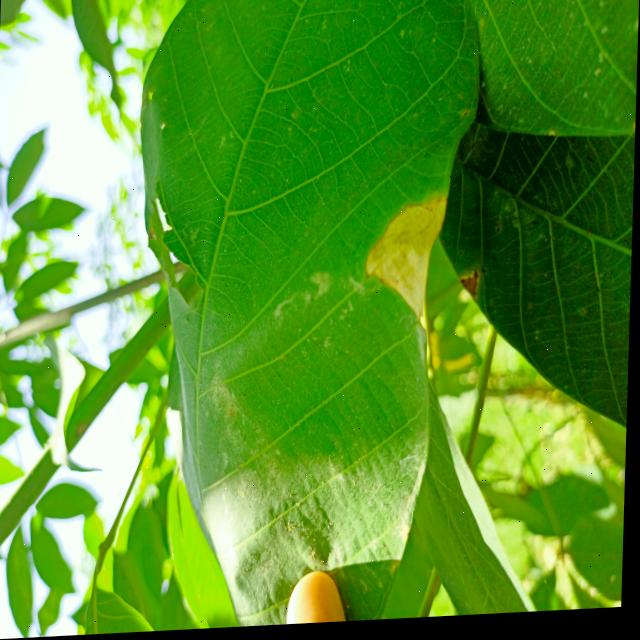Leaf-Blight: (364, 202, 447, 331)
